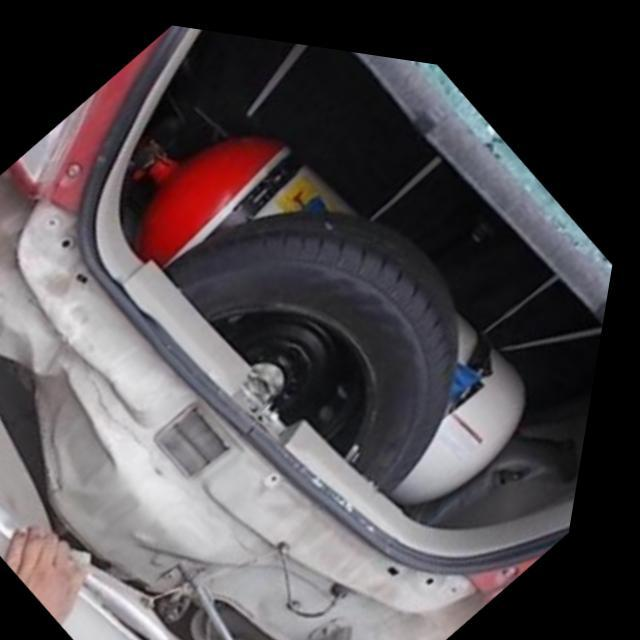no part: (0, 164, 504, 640)
